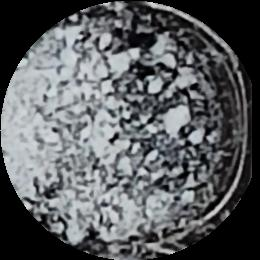Nothing: (0, 1, 260, 260)
